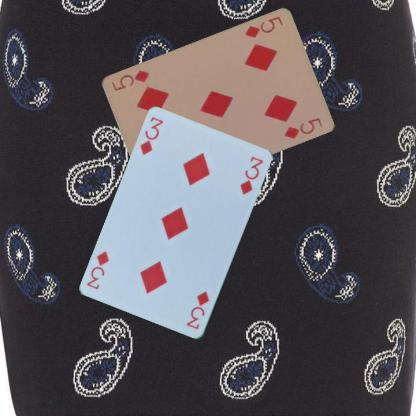3d: (184, 289, 211, 331), (138, 115, 164, 156)
5d: (242, 14, 284, 40)
